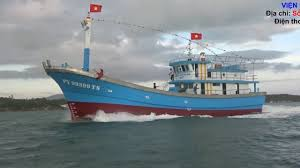tau_dansu: (43, 13, 267, 114)
